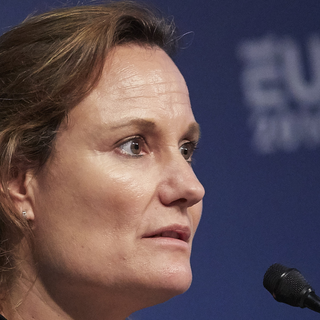eye: (111, 131, 154, 161), (175, 134, 196, 167)
